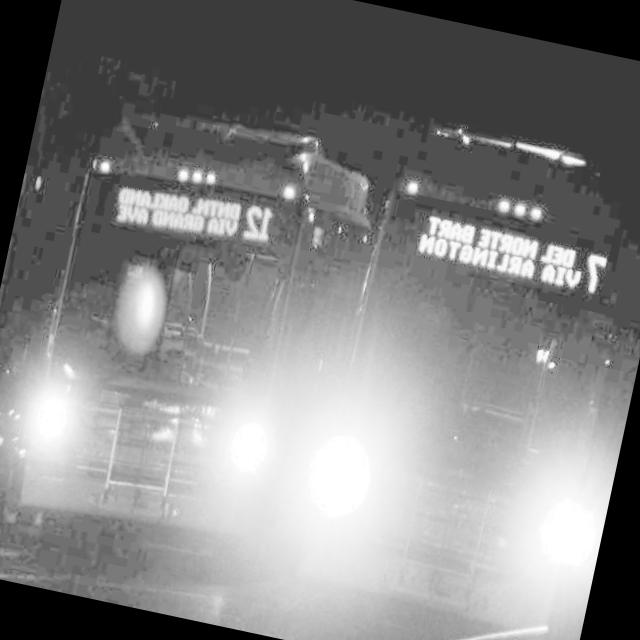Bus: (290, 74, 640, 640), (0, 65, 341, 592)
